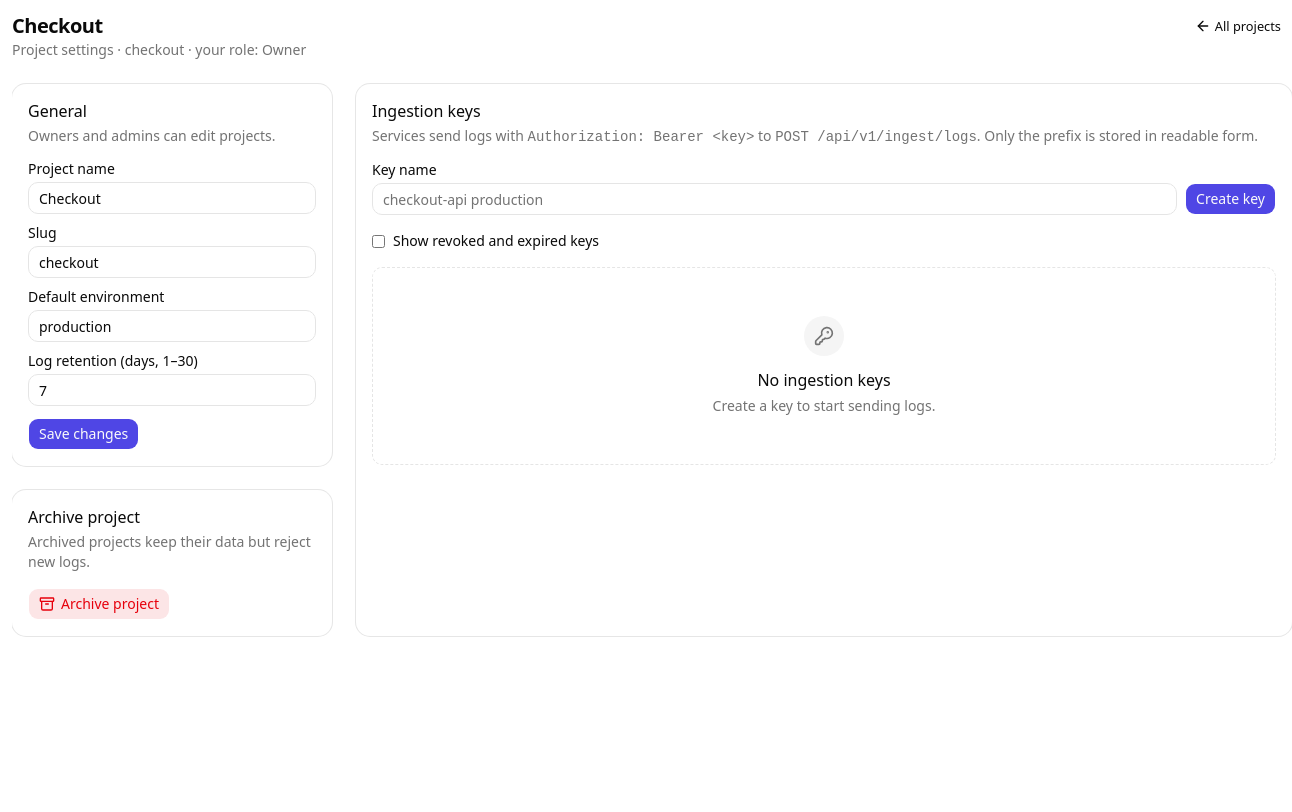
Scenario: ProjectSettings › owner: edits and archives the project
Replace the text in the field labelled "Project name" with "Checkout API". click: (172, 198)
box: [28,182,316,214]
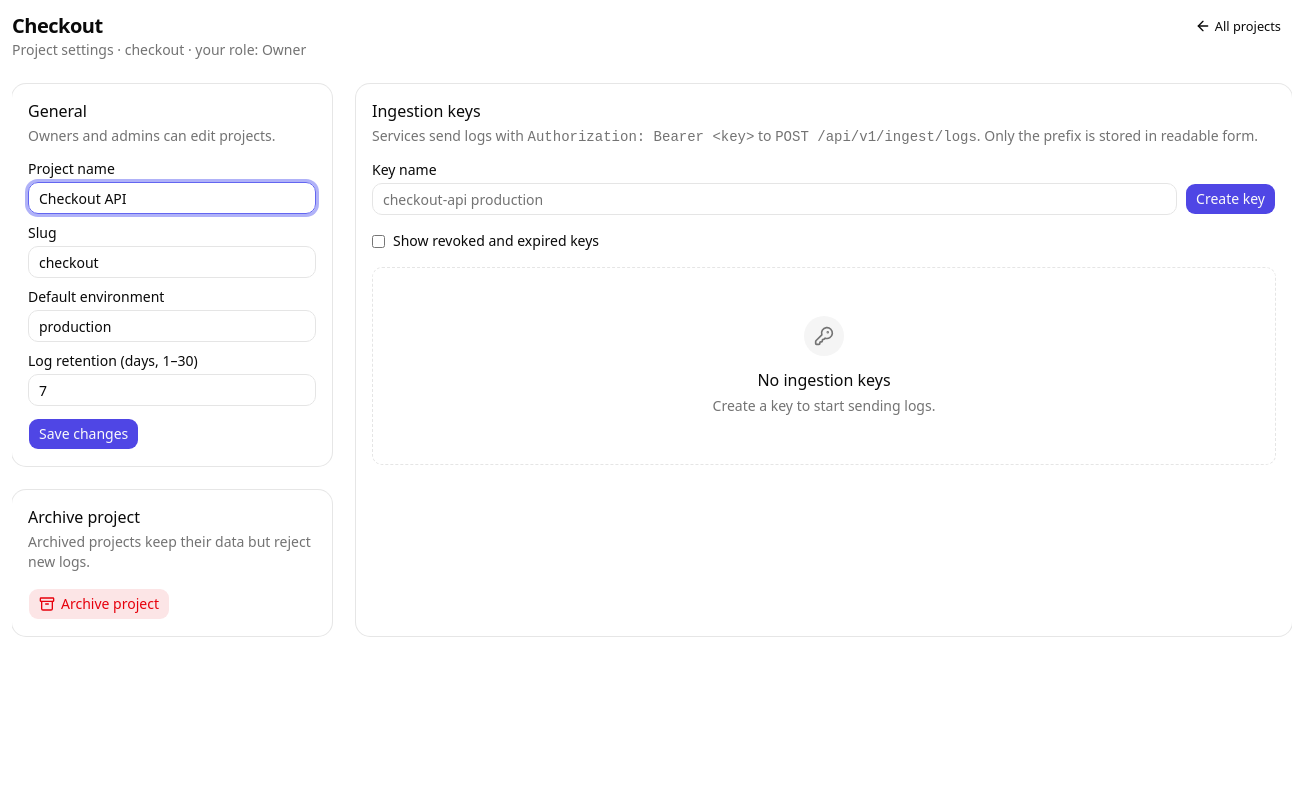
Click the button "Save changes". click: click(84, 434)
box: [28,418,139,450]
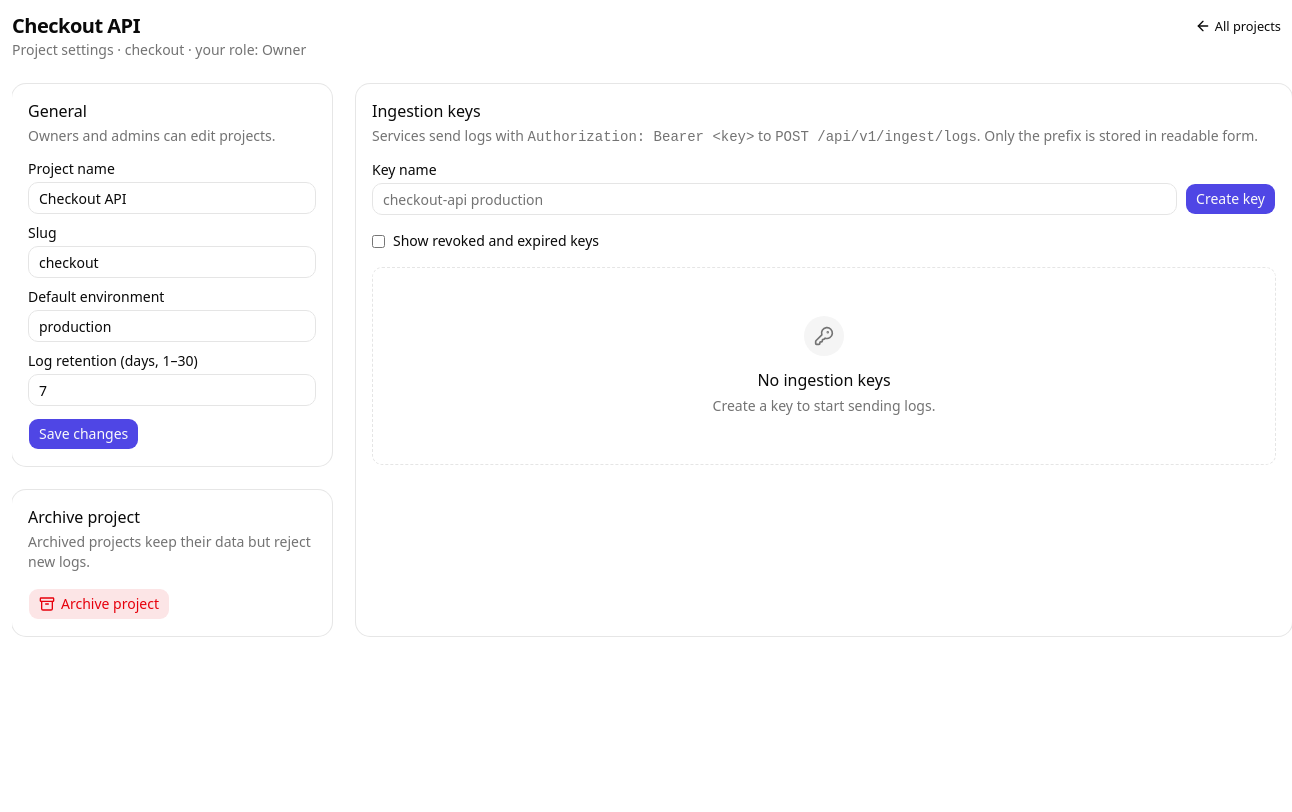
Check: the heading "Checkout API" is shown, box [12,12,140,39]
Click the button "Archive project". click: click(99, 604)
box: [28,588,170,620]
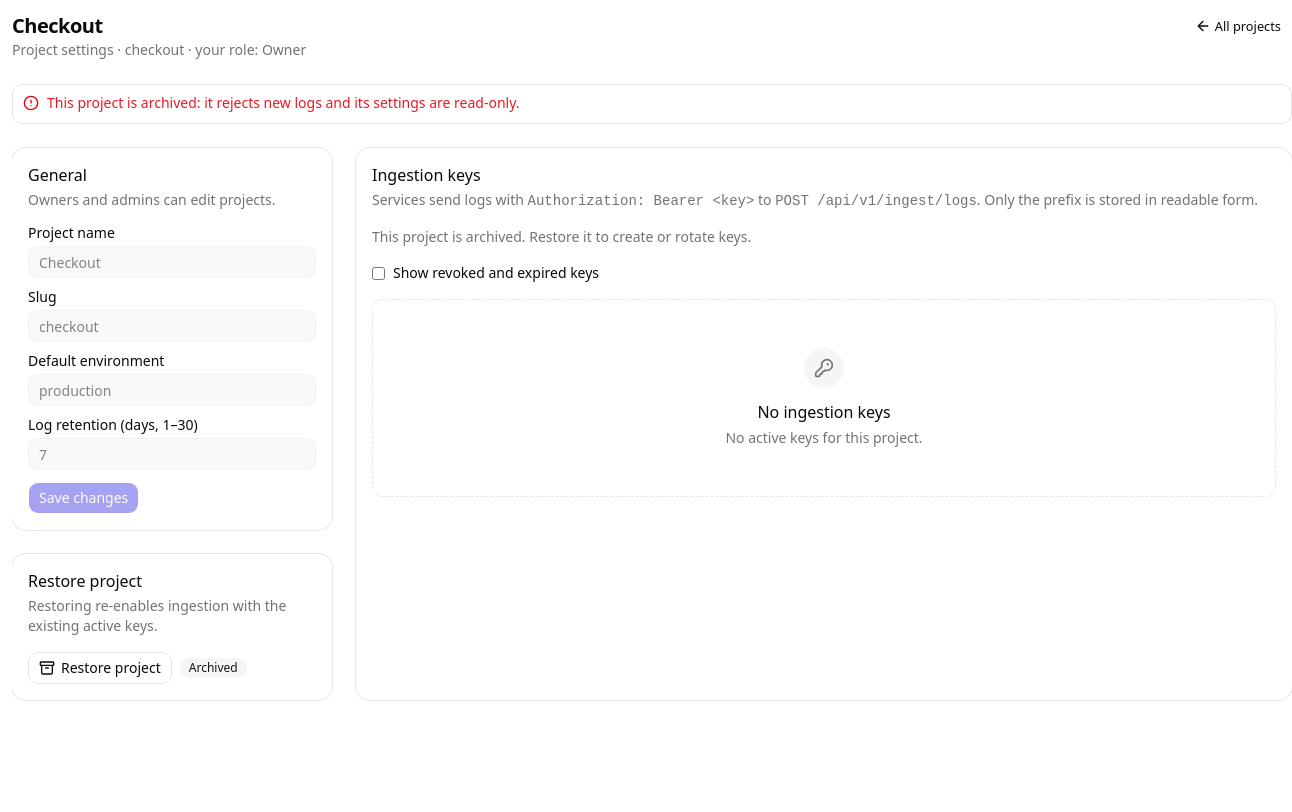
Check: the button "Restore project" is shown, box [28,652,172,684]
Check: the text "rejects new logs and its settings are read-only" is shown, box [47,93,520,112]
Check: the button "Save changes" is disabled, box [28,482,139,514]
